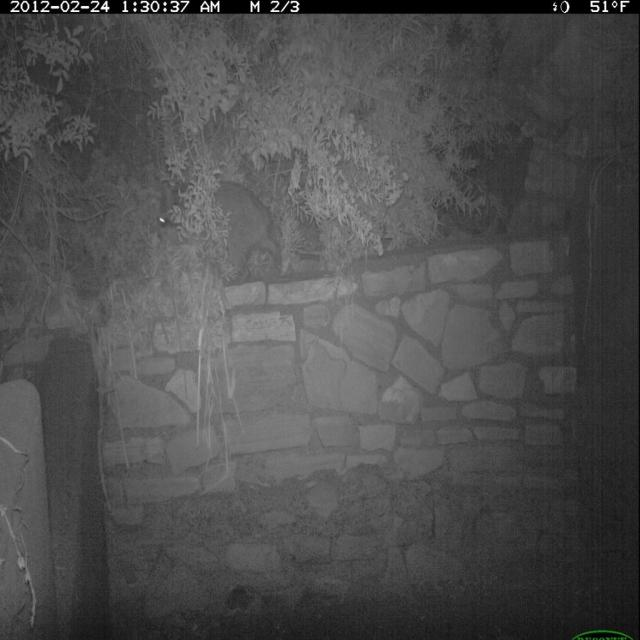raccoon: (156, 177, 286, 286)
